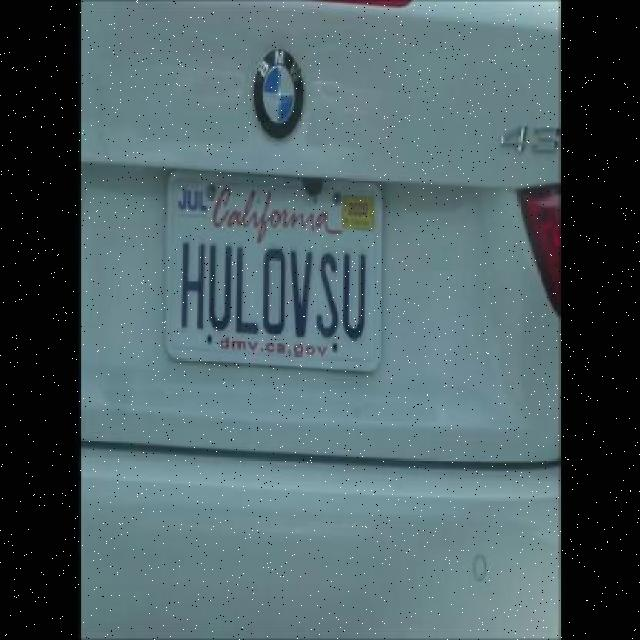licenseplate: (166, 168, 379, 374)
